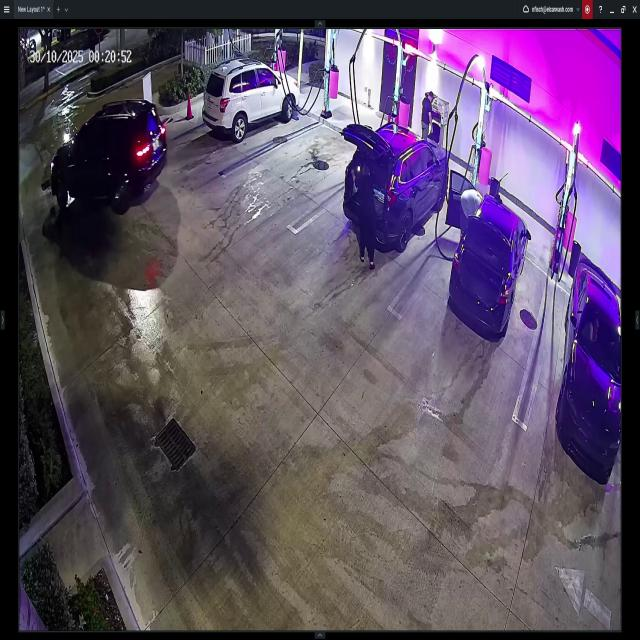Car: (341, 125, 449, 253), (448, 167, 528, 339), (558, 258, 621, 472), (50, 105, 162, 209), (202, 61, 299, 137)
